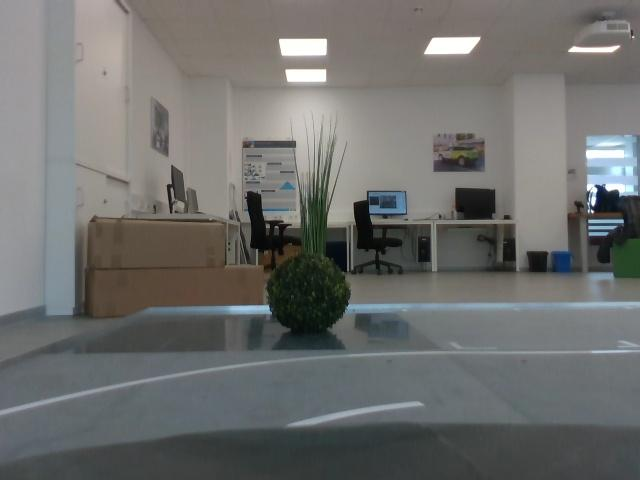potted plant: (266, 252, 351, 342), (293, 120, 348, 253)
